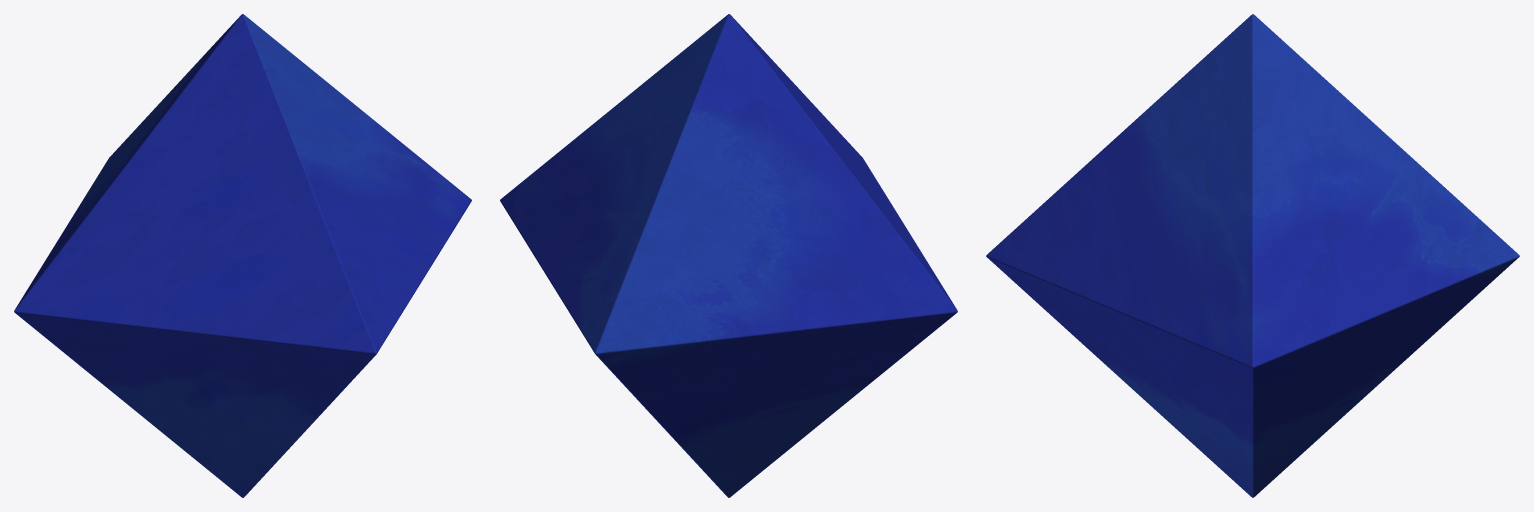
The model's file is diamond-music-gem.glb.
The picture shows the model from 3 angles, left to right: view 1: azimuth 30°, elevation 25°; view 2: azimuth 150°, elevation 25°; view 3: azimuth 270°, elevation 25°; orthographic projection.
Visible parts, largest first — view 1: diamond-music-gem; view 2: diamond-music-gem; view 3: diamond-music-gem.
Part boxes in pixels (x1=…): diamond-music-gem: x1=14, y1=14, x2=471, y2=497; diamond-music-gem: x1=500, y1=14, x2=957, y2=497; diamond-music-gem: x1=986, y1=14, x2=1519, y2=497.
Bounding box in the file's own units: 0.4558 × 0.4606 × 0.4606.
1 material, 1 textured.
